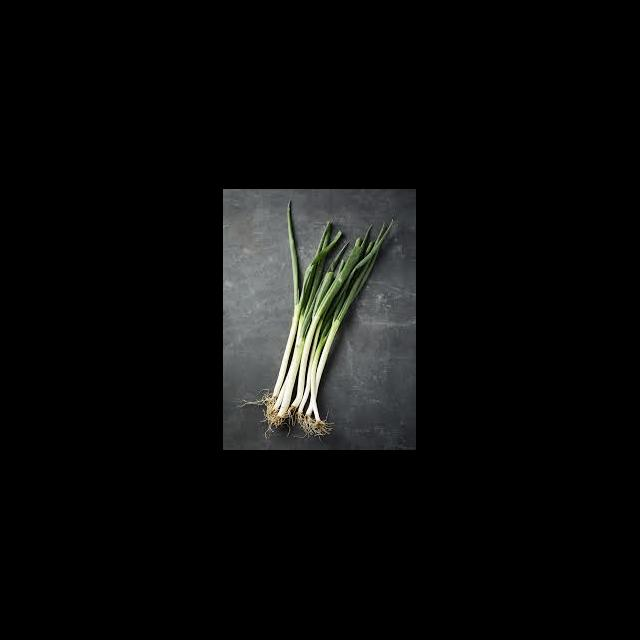green_onion: (264, 202, 394, 438)
